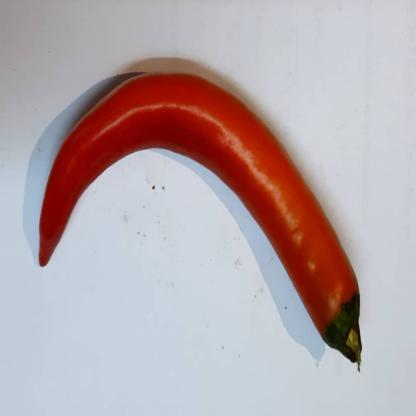chili: (37, 68, 363, 382)
